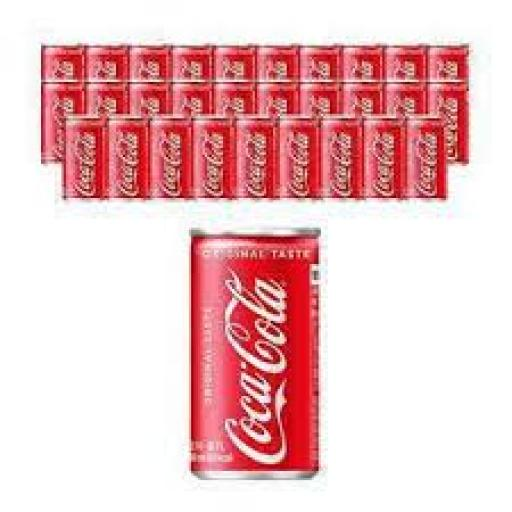Coca: (180, 226, 326, 488), (278, 110, 324, 211), (235, 110, 282, 205), (61, 110, 109, 203), (40, 77, 86, 171), (362, 112, 408, 202), (172, 40, 215, 136), (148, 114, 192, 207), (109, 113, 152, 206), (324, 114, 368, 204), (212, 40, 256, 130), (388, 51, 432, 141), (428, 50, 470, 144), (84, 80, 130, 165), (129, 74, 174, 160), (408, 116, 449, 210), (383, 80, 430, 162), (171, 76, 215, 162), (346, 40, 386, 134), (193, 115, 235, 203), (216, 82, 258, 169), (88, 45, 130, 132), (130, 45, 172, 132), (300, 44, 342, 131), (341, 83, 385, 165), (258, 46, 298, 134), (43, 45, 85, 128), (299, 86, 339, 171), (260, 85, 299, 169), (430, 82, 464, 168)
